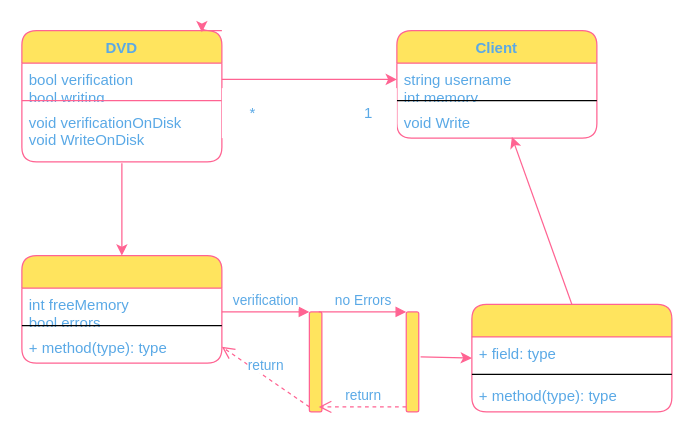
This 694x441 diagram has some shape labels left out. The shapes that lost their labels are listed below. From the top down, each one's box as (x1, y1, x2, y2) in pixels, then its label:
(21, 254, 222, 363): Processing
(471, 303, 672, 412): Product
